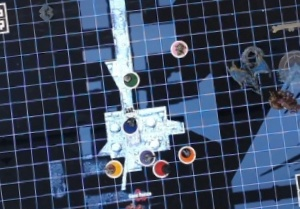blue: (118, 114, 139, 135)
green: (118, 68, 143, 90)
orange: (174, 141, 199, 166)
pink: (166, 36, 191, 61), (151, 157, 172, 179)
violet: (135, 146, 156, 166)
yellow: (100, 156, 124, 178)
